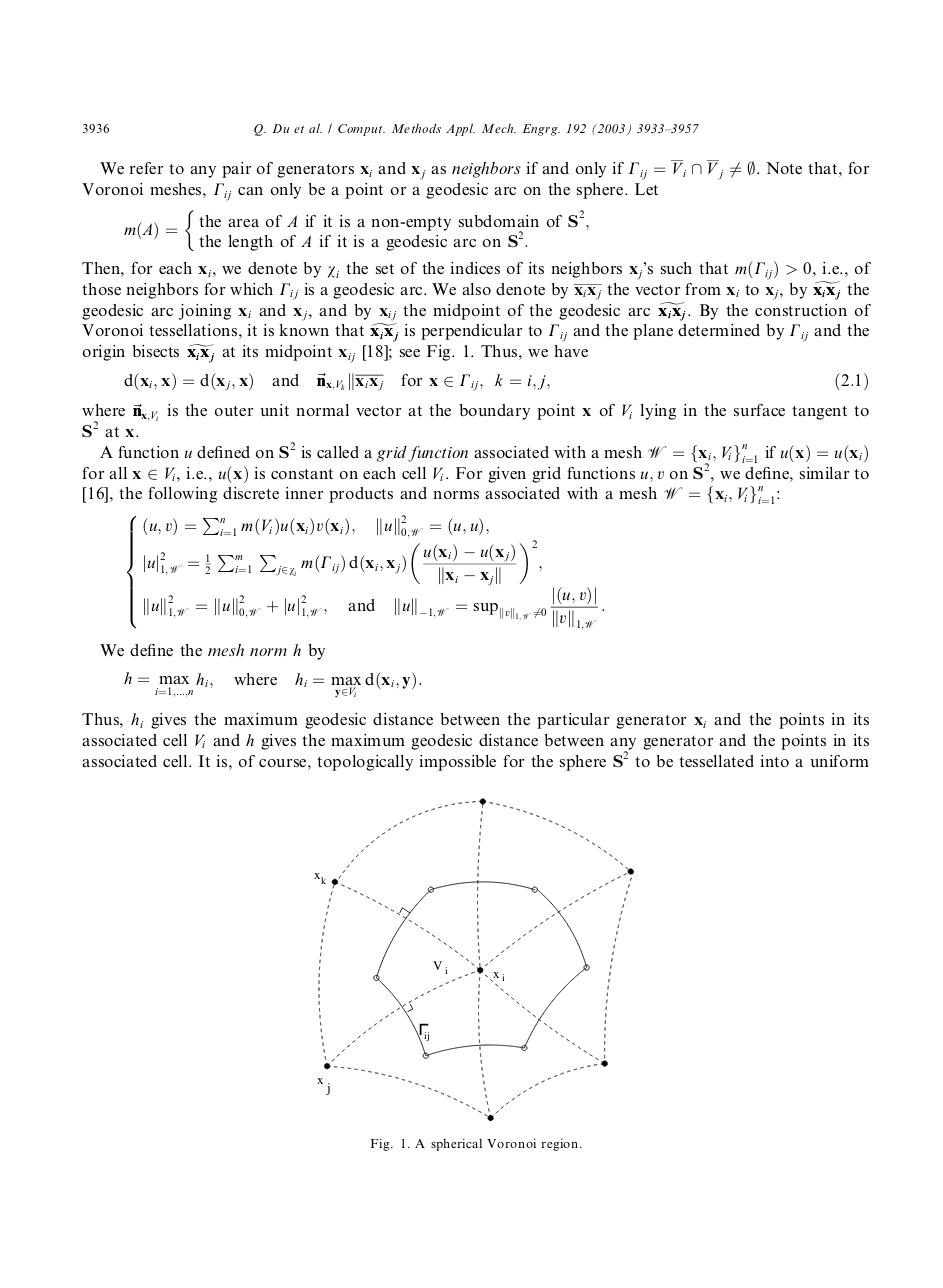figure: (314, 798, 633, 1120)
formula: (127, 514, 604, 630), (124, 209, 588, 251), (124, 372, 867, 391), (124, 671, 421, 698)
